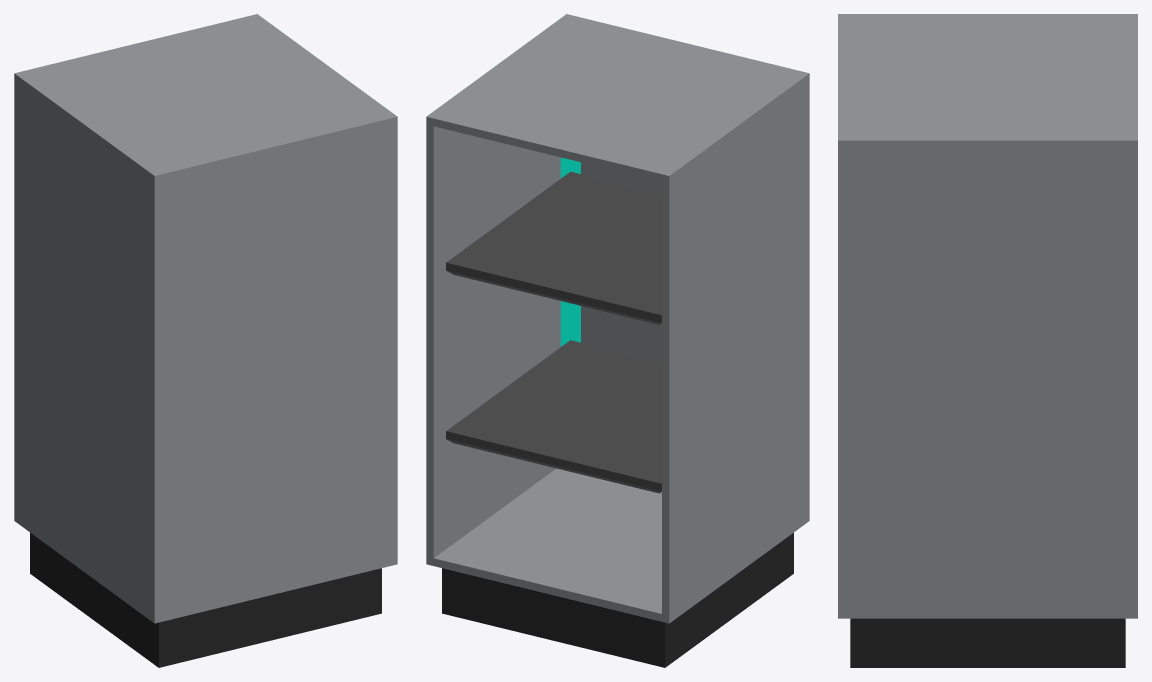
The model's file is Fridge.fbx.
3 renders of one model, left to right at view 1: azimuth 30°, elevation 25°; view 2: azimuth 150°, elevation 25°; view 3: azimuth 270°, elevation 25°, orthographic. The views are drawn at different scales.
Parts seen in each view (by area): view 1: Fridge; view 2: Fridge; view 3: Fridge.
Part boxes in pixels (x1,y1,x2,y2): Fridge: (14, 14, 397, 667); Fridge: (426, 14, 809, 667); Fridge: (838, 14, 1137, 667).
Bounding box in the file's own units: 102 × 200 × 102.
